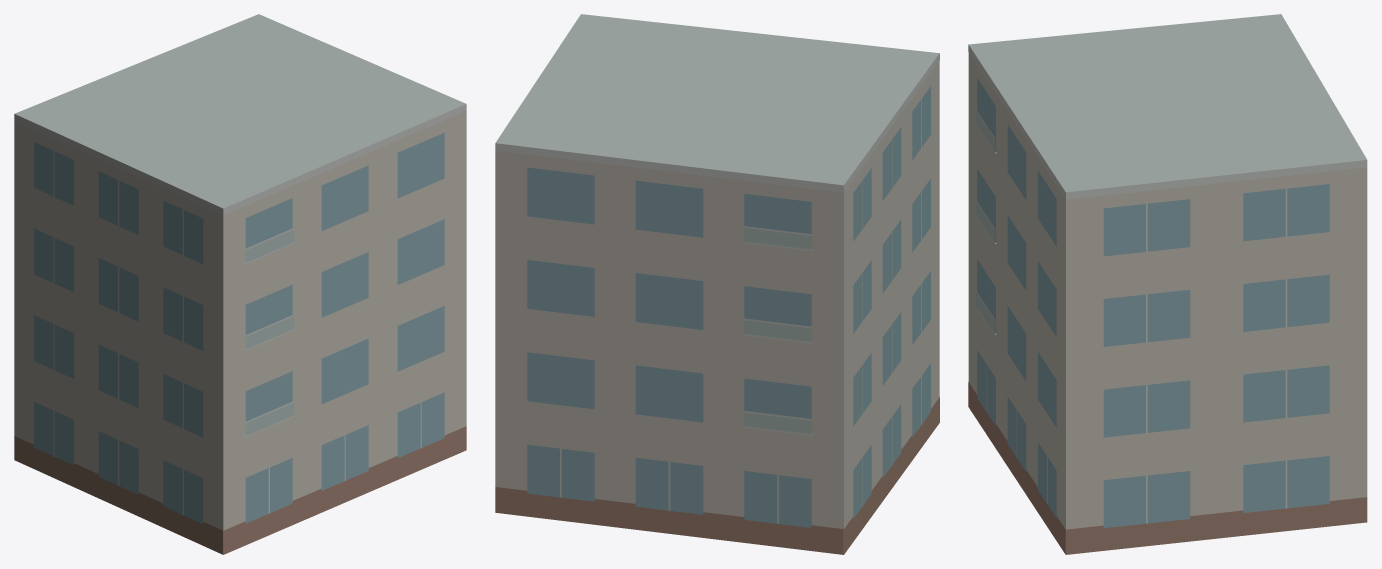
File: survey-upis-32650728.glb
3 views of the same model, side by side, from view 1: azimuth 30°, elevation 25°; view 2: azimuth 150°, elevation 25°; view 3: azimuth 270°, elevation 25° (orthographic). The views are drawn at different scales.
Parts seen in each view (by area): view 1: survey-upis-32650728.tmp; view 2: survey-upis-32650728.tmp; view 3: survey-upis-32650728.tmp.
Boxes of the visible parts, box(x1,y1,x2,y2) form: survey-upis-32650728.tmp: box(14, 14, 466, 554); survey-upis-32650728.tmp: box(495, 14, 939, 554); survey-upis-32650728.tmp: box(968, 14, 1367, 554).
Size of the model in its own units: 12.78 by 12.1 by 12.08.
